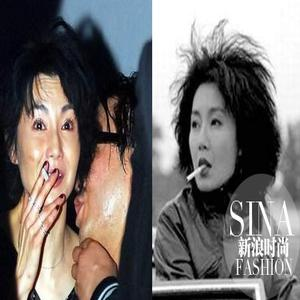cigarette: (185, 163, 206, 180), (42, 169, 51, 183)
